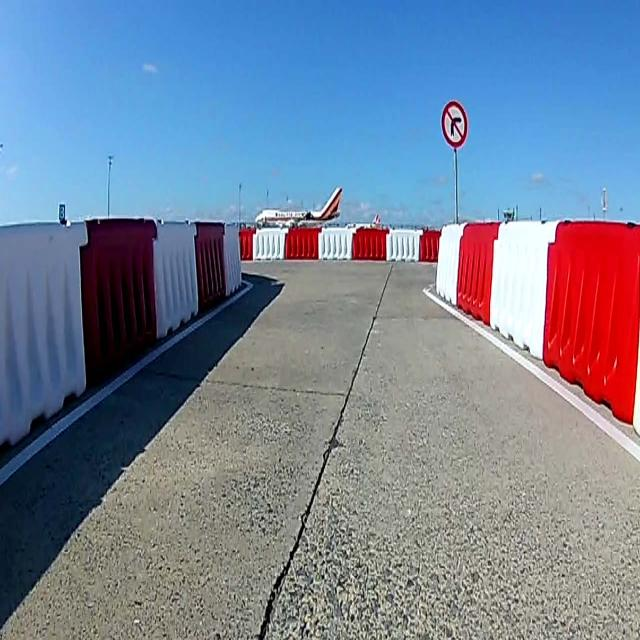sagadonulmez: (440, 100, 468, 148)
